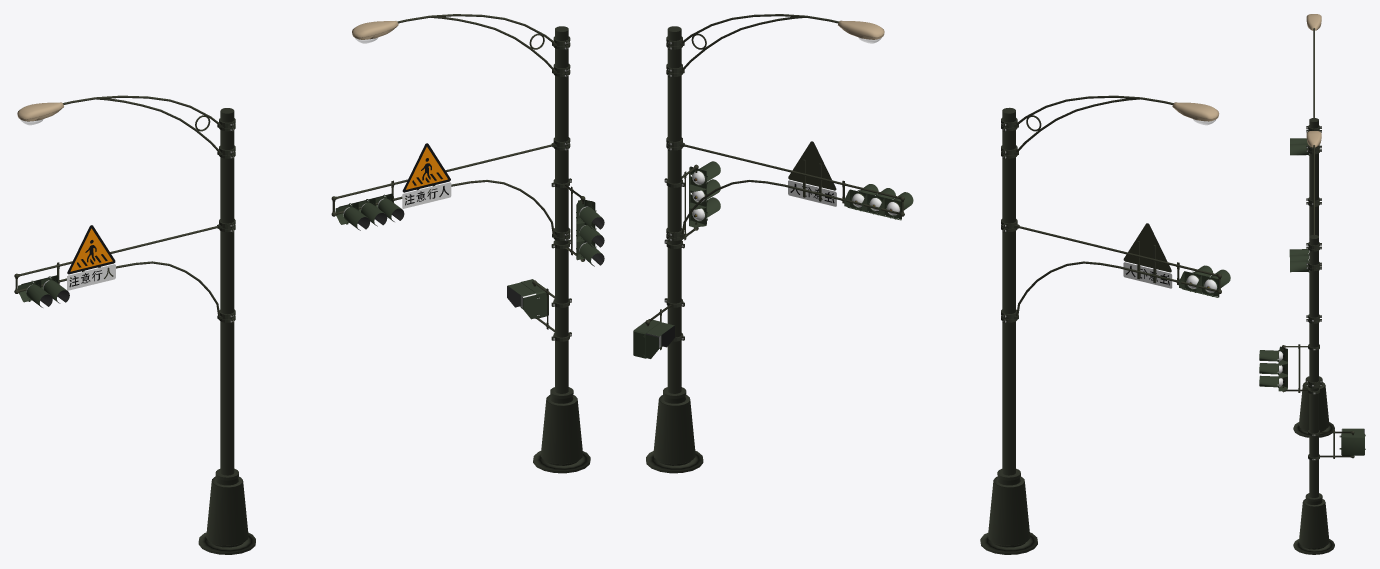
The model's file is vintage_shanghai_crosswalk_signals.glb.
3 renders of one model, left to right at view 1: azimuth 30°, elevation 25°; view 2: azimuth 150°, elevation 25°; view 3: azimuth 270°, elevation 25°, orthographic. The views are drawn at different scales.
Visible parts, largest first — view 1: shanghai signal horizontal 2.004, shanghai signal horizontal 2.010; view 2: shanghai signal horizontal 2.004, shanghai signal horizontal 2.010; view 3: shanghai signal horizontal 2.004, shanghai signal horizontal 2.010.
Boxes of the visible parts, box(x1,y1,x2,y2) form: shanghai signal horizontal 2.004: box(331, 14, 604, 473); shanghai signal horizontal 2.010: box(14, 95, 255, 554); shanghai signal horizontal 2.004: box(633, 14, 913, 473); shanghai signal horizontal 2.010: box(980, 95, 1230, 554); shanghai signal horizontal 2.004: box(1259, 131, 1365, 554); shanghai signal horizontal 2.010: box(1290, 14, 1334, 437).
Size of the model in its own units: 13.92 by 11.21 by 3.12.
